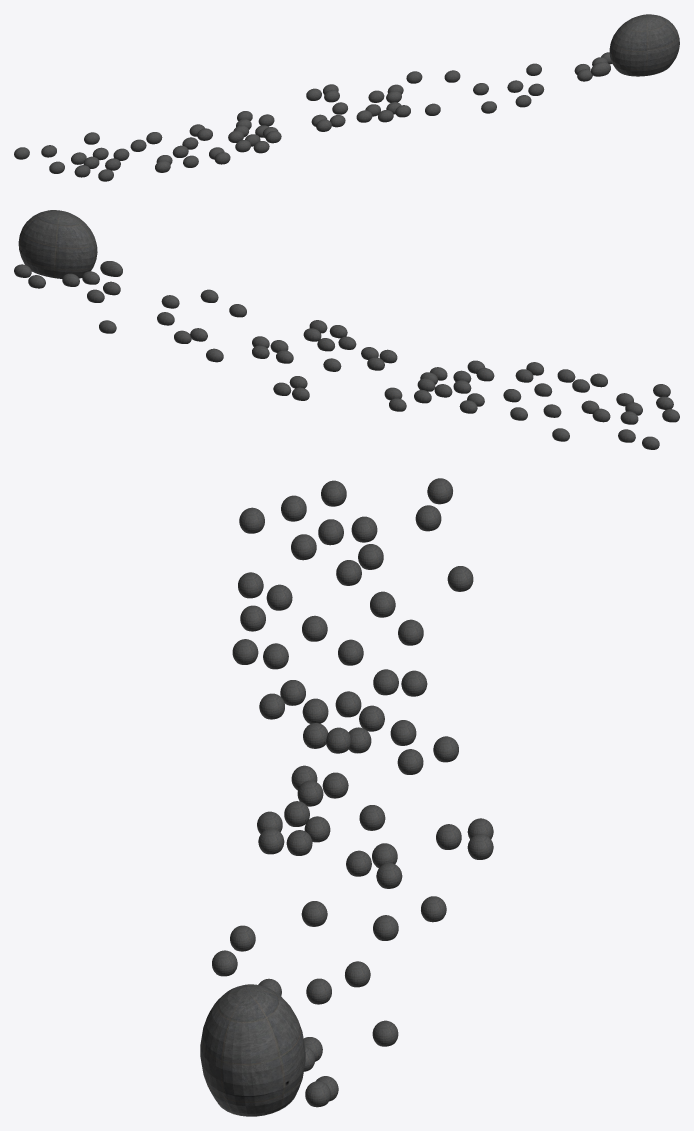
Rendered from rock.glb.
3 views of the same model, one above another, from view 1: azimuth 30°, elevation 25°; view 2: azimuth 150°, elevation 25°; view 3: azimuth 270°, elevation 25° (orthographic). The views are drawn at different scales.
Parts seen in each view (by area): view 1: fish2.003; view 2: fish2.003; view 3: fish2.003.
Part boxes in pixels (x1,y1,x2,y2): fish2.003: (14, 14, 679, 181); fish2.003: (14, 210, 679, 449); fish2.003: (200, 478, 493, 1116).
Size of the model in its own units: 3.16 by 0.3074 by 0.6508.
Materials: 1 (1 with a texture image).
